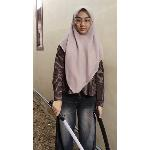Pedang: (49, 94, 84, 150)
